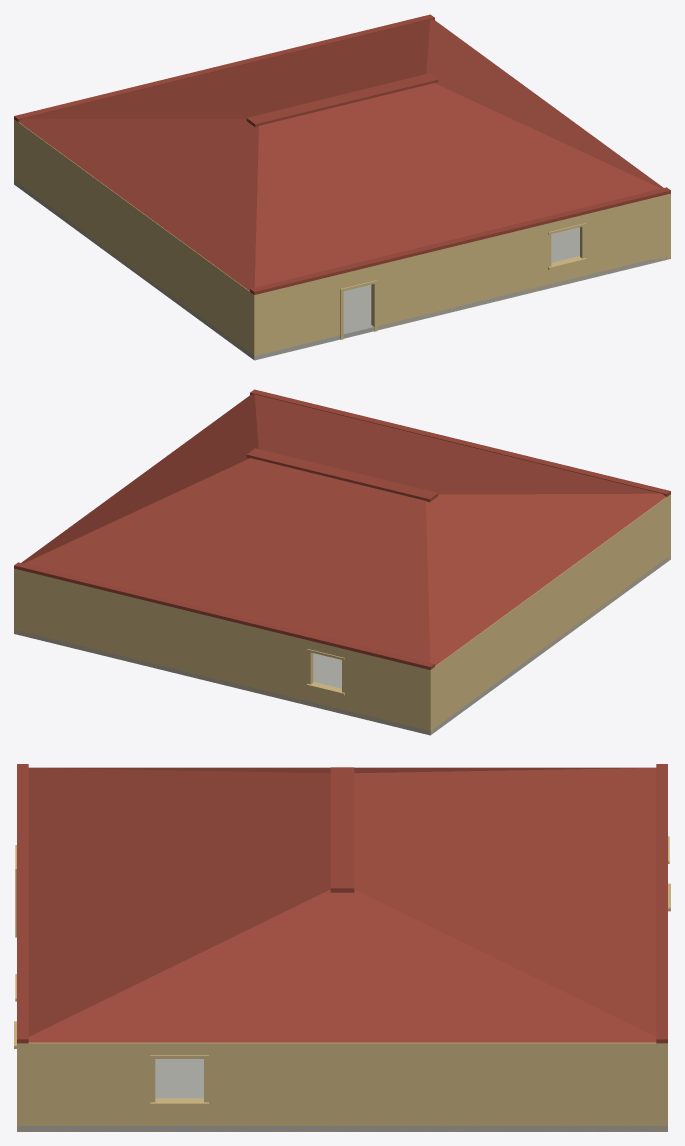
Rendered from house_small.glb.
The picture shows the model from 3 angles, top to bottom: view 1: azimuth 30°, elevation 25°; view 2: azimuth 150°, elevation 25°; view 3: azimuth 270°, elevation 25°; orthographic projection. The views are drawn at different scales.
Parts seen in each view (by area): view 1: house_small; view 2: house_small; view 3: house_small.
Boxes of the visible parts, box(x1,y1,x2,y2) form: house_small: box(14, 14, 670, 360); house_small: box(14, 389, 670, 735); house_small: box(14, 764, 670, 1131).
Bounding box in the file's own units: 20.09 × 5.64 × 20.18.
